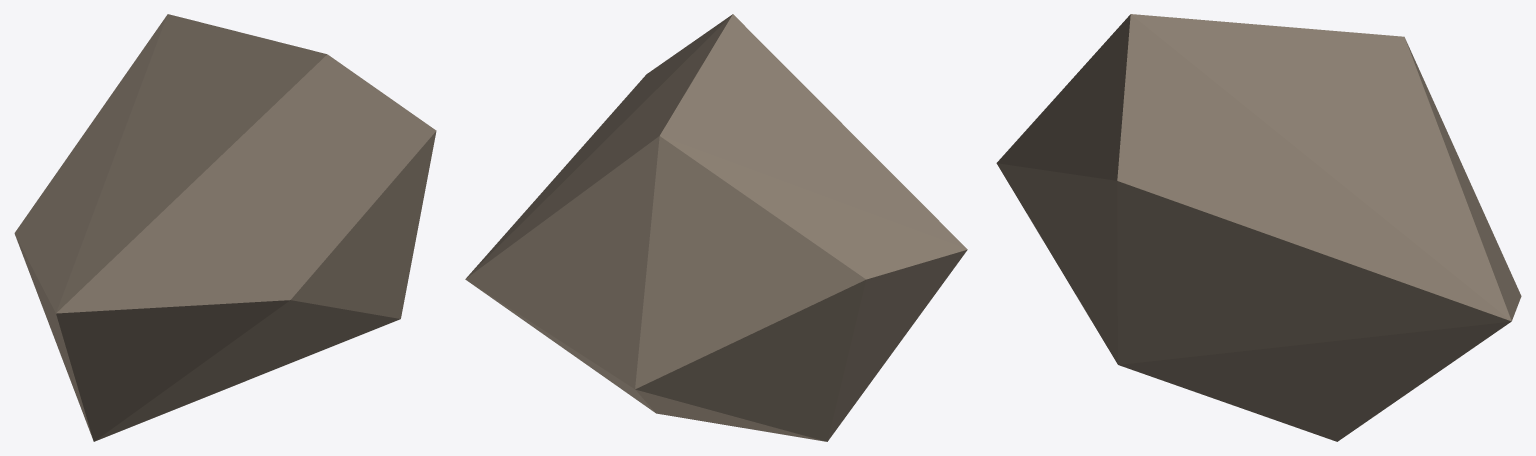
The model's file is Low Poly Weapon Pack - by Kickin It Studios.fbx_Pebble.glb.
3 renders of one model, left to right at view 1: azimuth 30°, elevation 25°; view 2: azimuth 150°, elevation 25°; view 3: azimuth 270°, elevation 25°, orthographic. The views are drawn at different scales.
Parts seen in each view (by area): view 1: Pebble; view 2: Pebble; view 3: Pebble.
Boxes of the visible parts, left/top/right/bottom form: Pebble: left=14, top=14, right=436, bottom=441; Pebble: left=465, top=14, right=967, bottom=441; Pebble: left=996, top=14, right=1521, bottom=441.
Size of the model in its own units: 0.0987 by 0.0926 by 0.0991.
